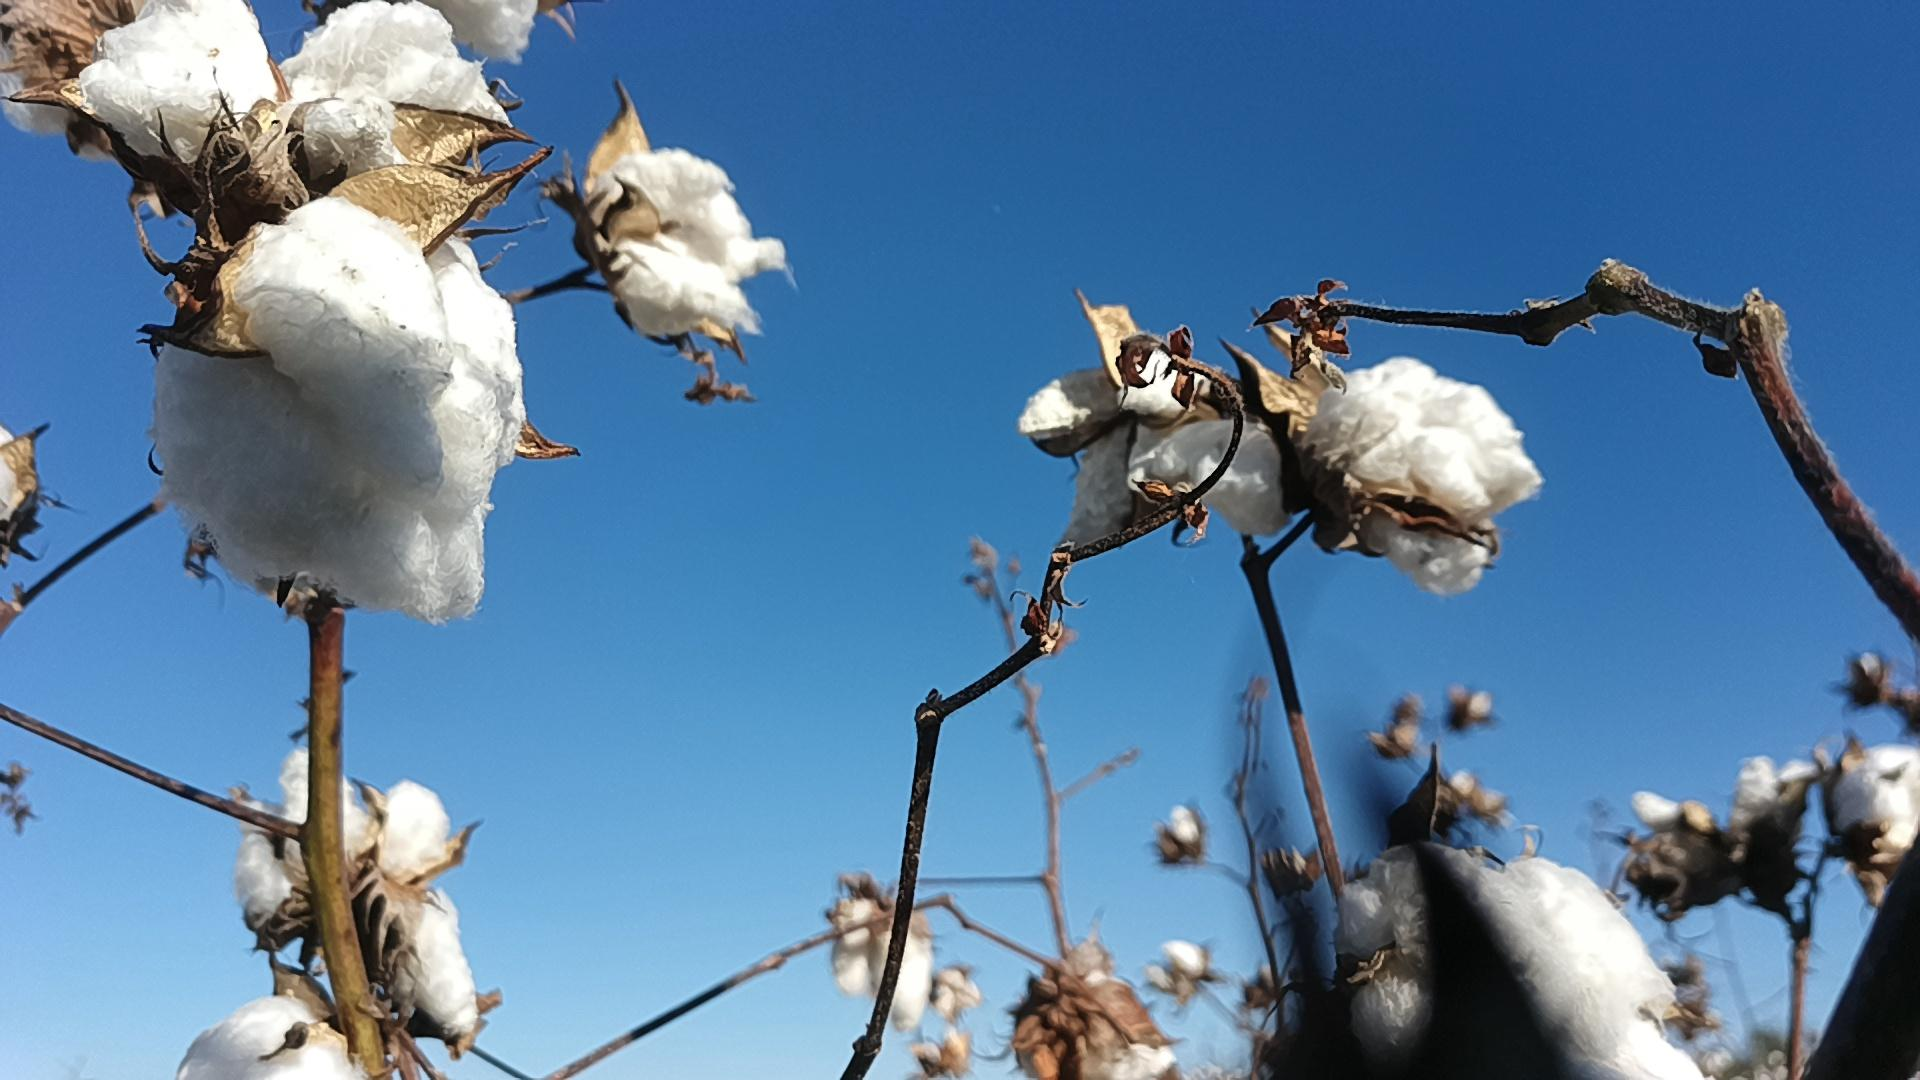cotton_ready: (150, 199, 527, 625), (229, 753, 477, 1040), (1014, 343, 1291, 555), (1313, 353, 1549, 597), (1458, 856, 1713, 1080), (0, 0, 287, 178), (282, 0, 516, 181), (588, 148, 798, 348), (1321, 837, 1478, 1059), (1023, 965, 1185, 1080), (178, 996, 373, 1080), (831, 895, 928, 1039), (1836, 745, 1920, 857), (1629, 793, 1726, 877), (419, 0, 549, 58), (1738, 756, 1822, 843), (0, 426, 36, 539)
